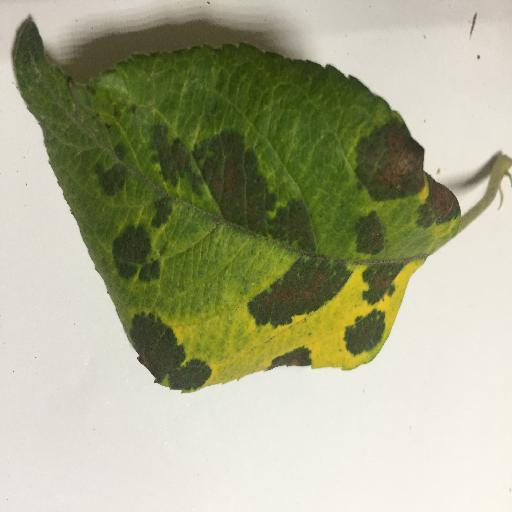Brown_Spot: (196, 145, 313, 244), (251, 268, 336, 312), (368, 132, 419, 191), (277, 209, 330, 253), (148, 134, 191, 177), (115, 237, 159, 278), (135, 326, 173, 370), (423, 187, 454, 218), (353, 325, 385, 355), (357, 217, 382, 249), (91, 172, 122, 196), (170, 369, 209, 386), (368, 265, 392, 290), (264, 357, 317, 364)
